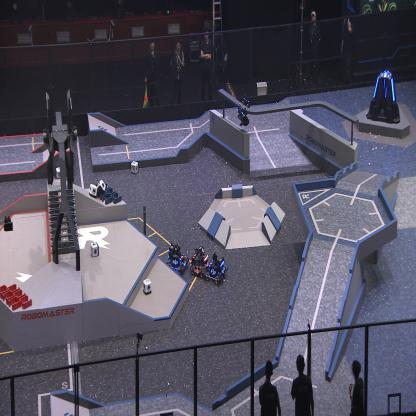car: (204, 250, 228, 286), (165, 241, 189, 275), (189, 243, 210, 279)
